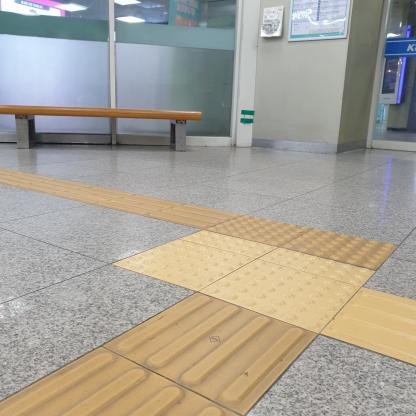go: (104, 291, 317, 416), (0, 344, 241, 416), (320, 287, 416, 366), (144, 203, 243, 230), (92, 193, 184, 216), (48, 186, 134, 204), (16, 179, 92, 194)
stop: (198, 258, 362, 334), (110, 238, 258, 291), (279, 228, 398, 270), (204, 214, 313, 246)
